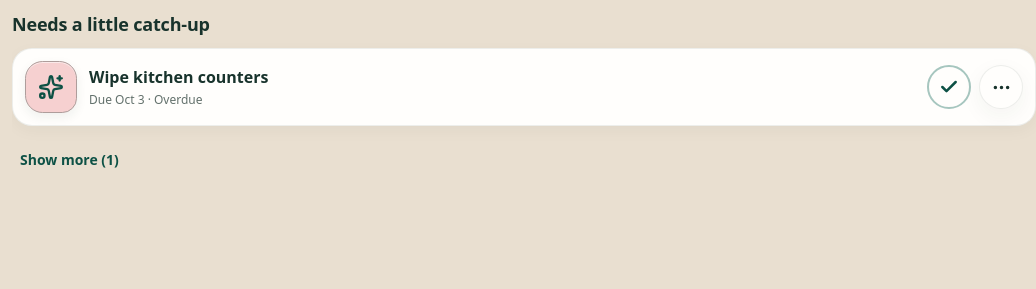
HomeOverdueSection › hides older overdue chores until Show more and restores the compact list with Show less
This screenshot has width=1036, height=289.
Expected: the link "Wipe kitchen counters" is shown, [89,66,268,88]
Expected: the text "Water plants" is not shown
Click the button "Show more (1)".
click(69, 160)  # box [12,138,127,183]
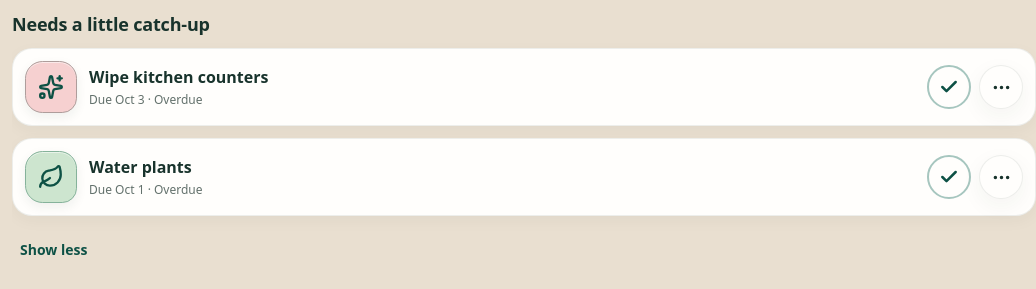
Now the link "Water plants" is shown, box [89,156,192,178]
Now the button "Show less" is shown, box [12,228,95,273]
